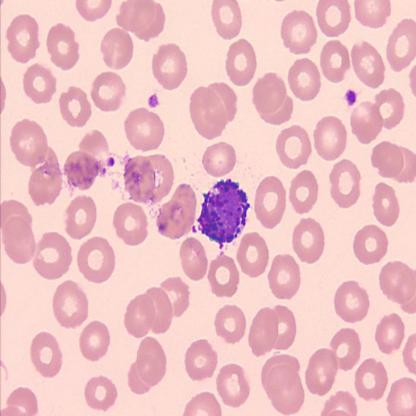Basophil: (196, 174, 252, 249)
